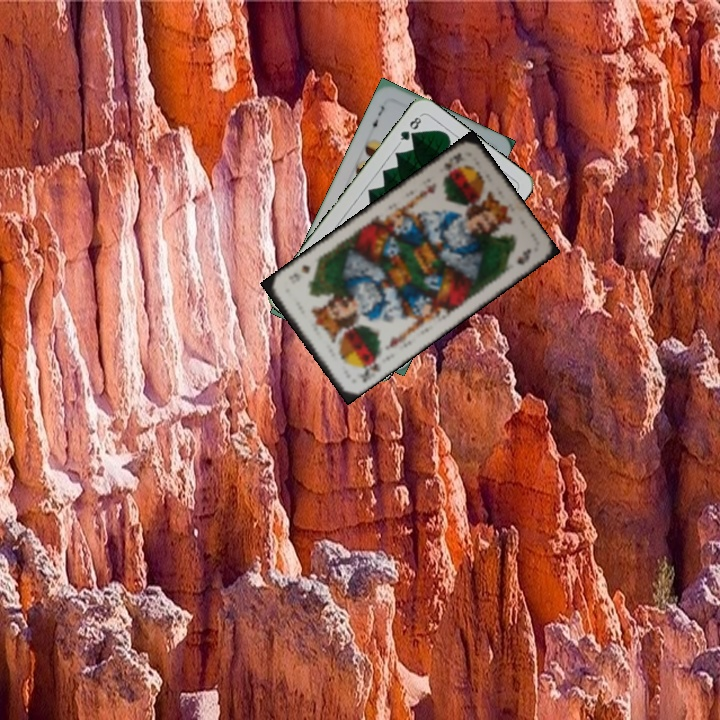E7: (366, 102, 387, 133)
G8: (395, 111, 424, 146)
SK: (356, 352, 383, 386), (440, 149, 466, 172)
